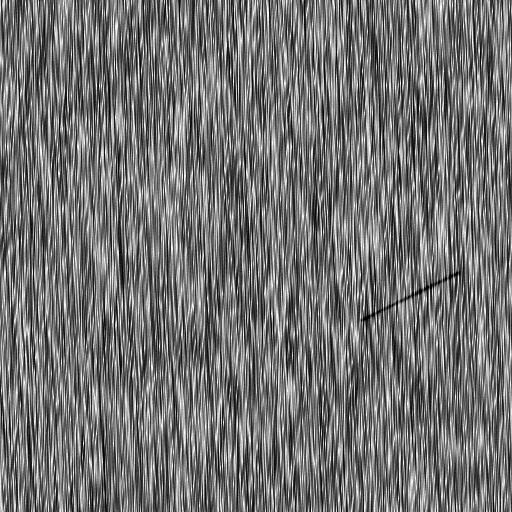DefectTypeC: (362, 269, 462, 323)
